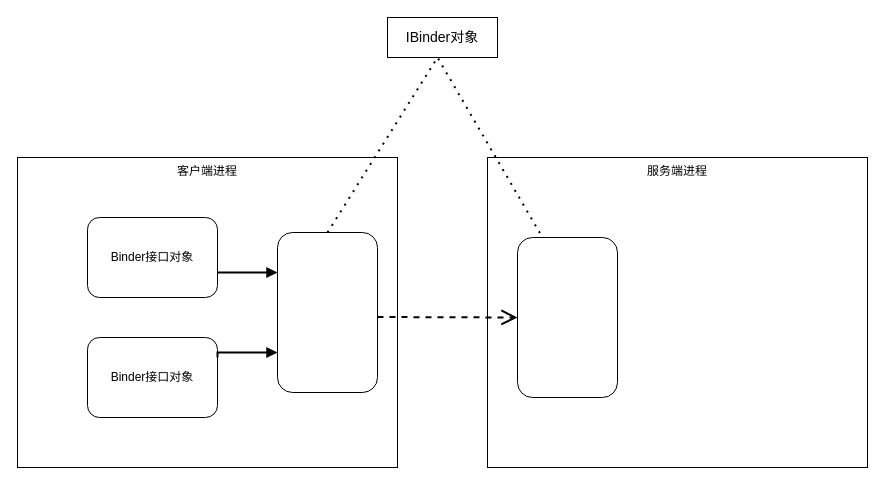
Image size: 885x485. Some labels were removed from this diagram. The box of each missing label's shape, as (x1, y1, x2, y2) in pixels:
Binder实体对象: (516, 236, 618, 398)
Binder引用对象: (276, 232, 378, 392)
